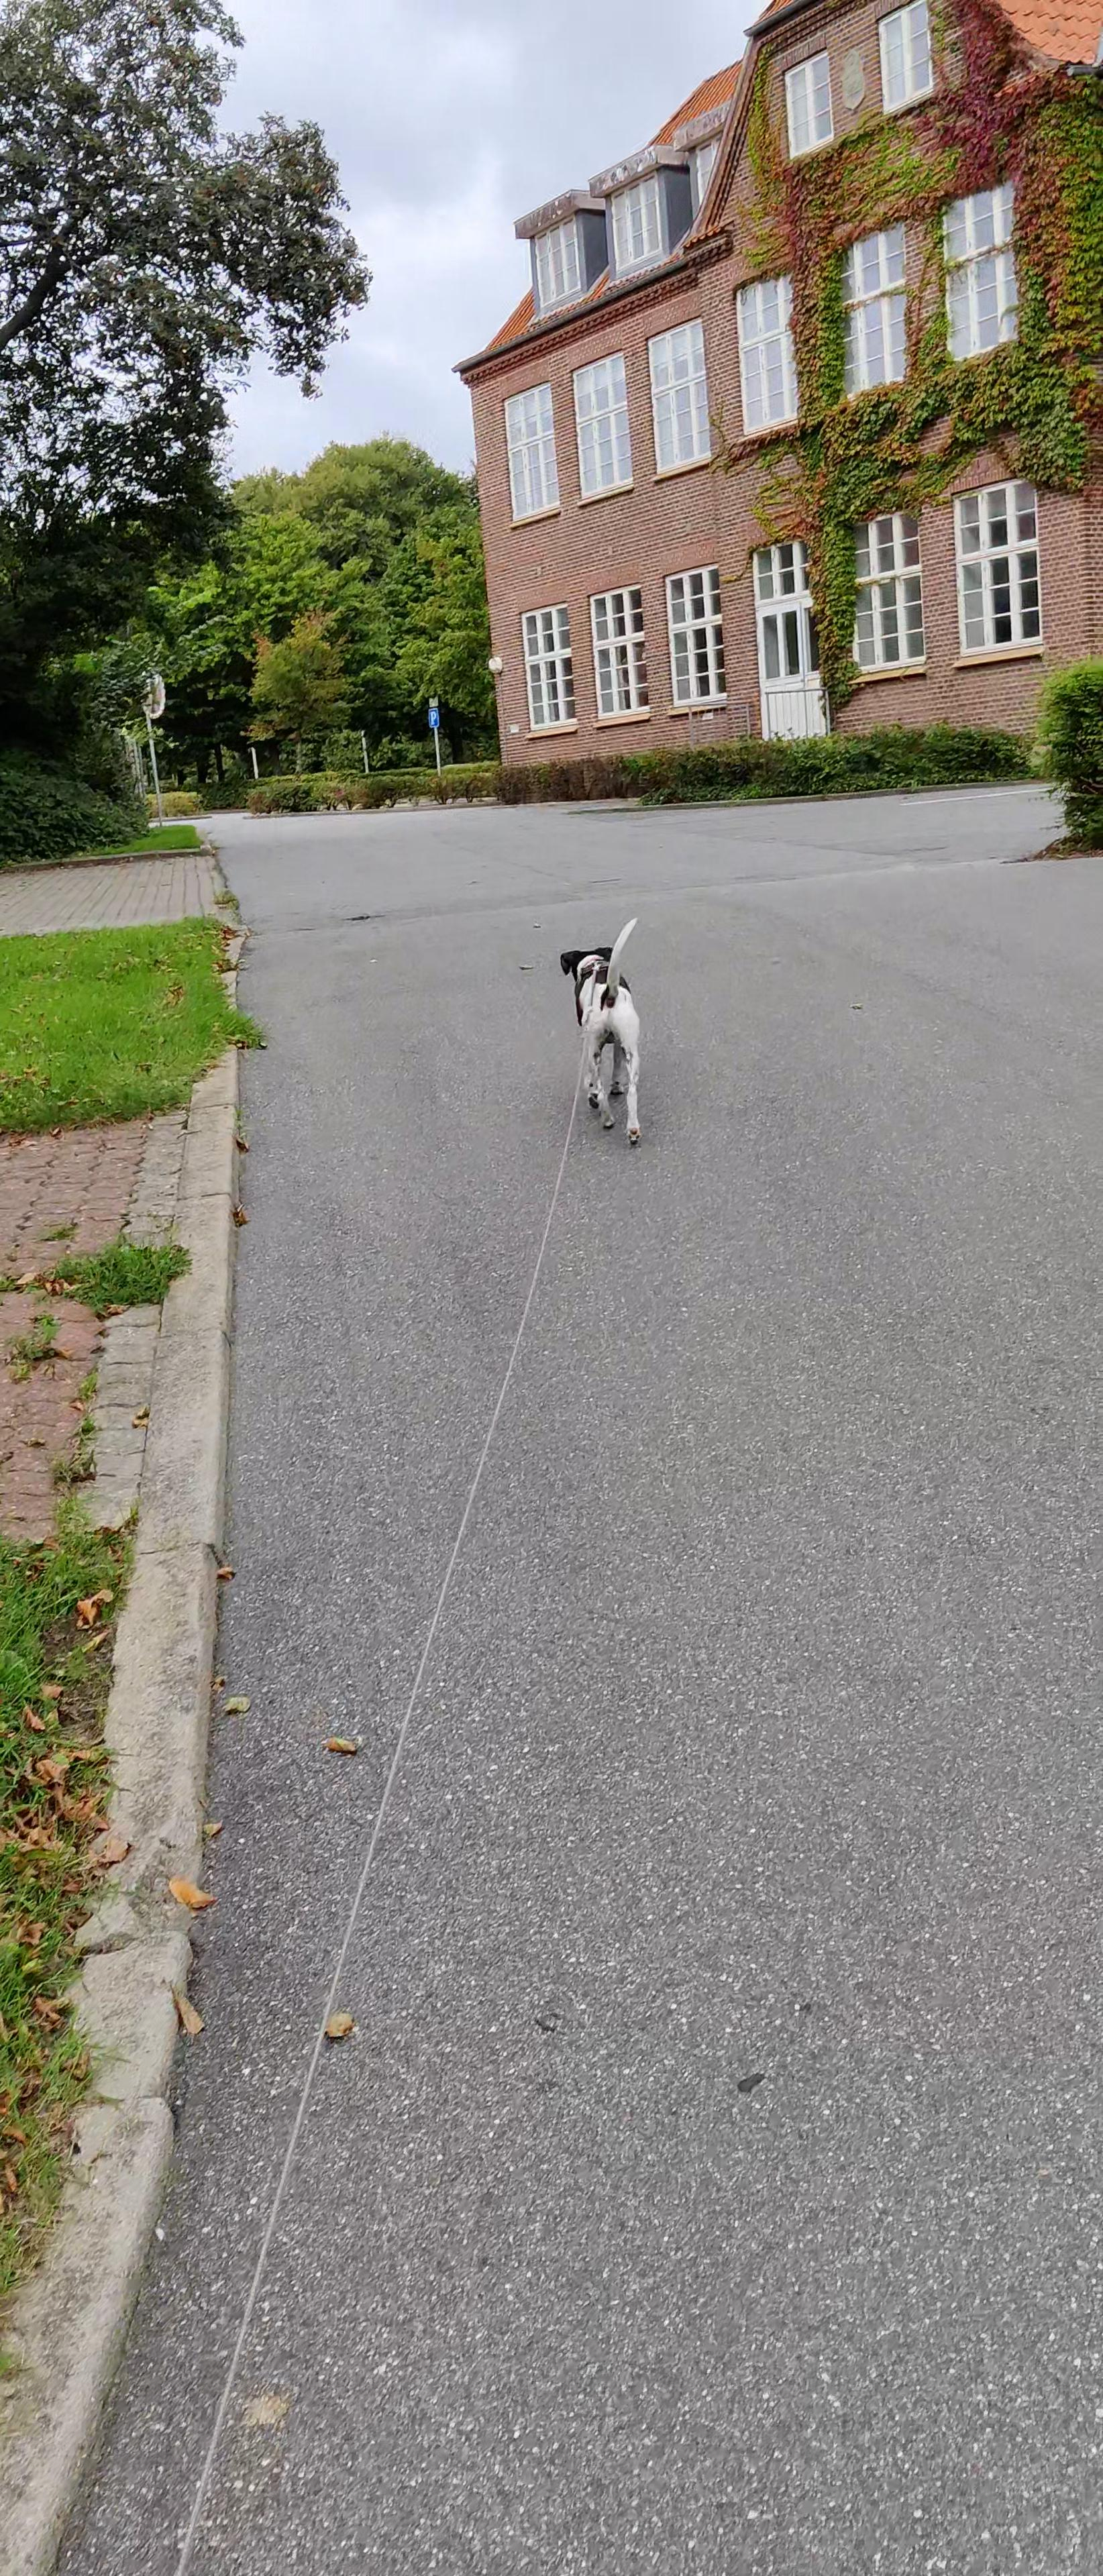Dog: (544, 907, 676, 1152)
